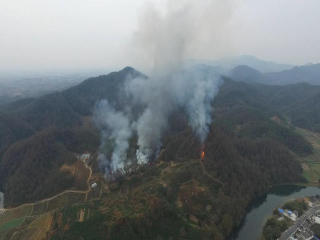smoke: (90, 5, 227, 176)
